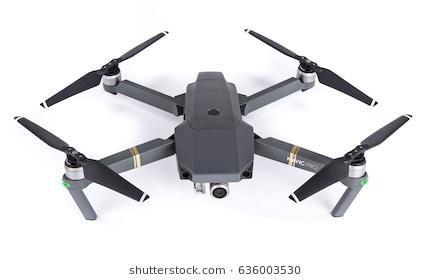drone: (15, 29, 412, 219)
